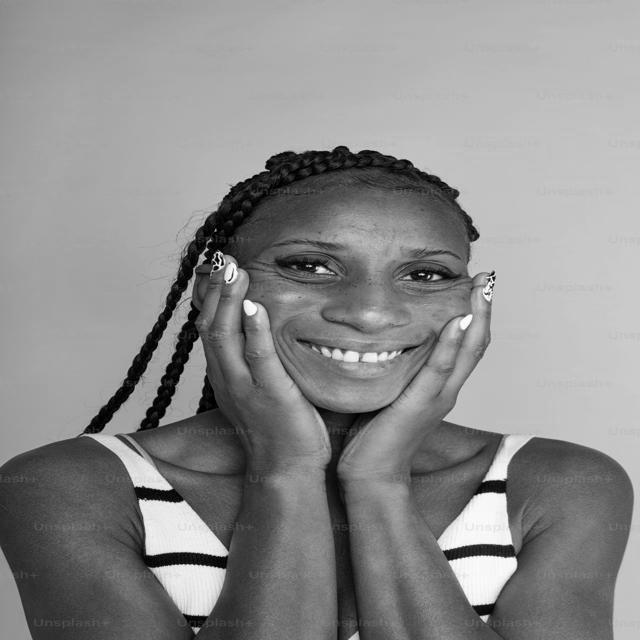Happiness: (226, 174, 475, 414)
